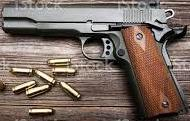gun: (1, 1, 190, 121)
